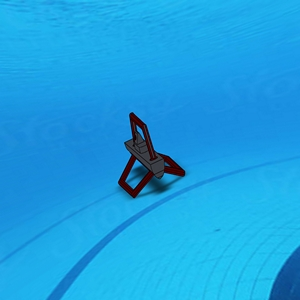submarine: (113, 109, 189, 198)
